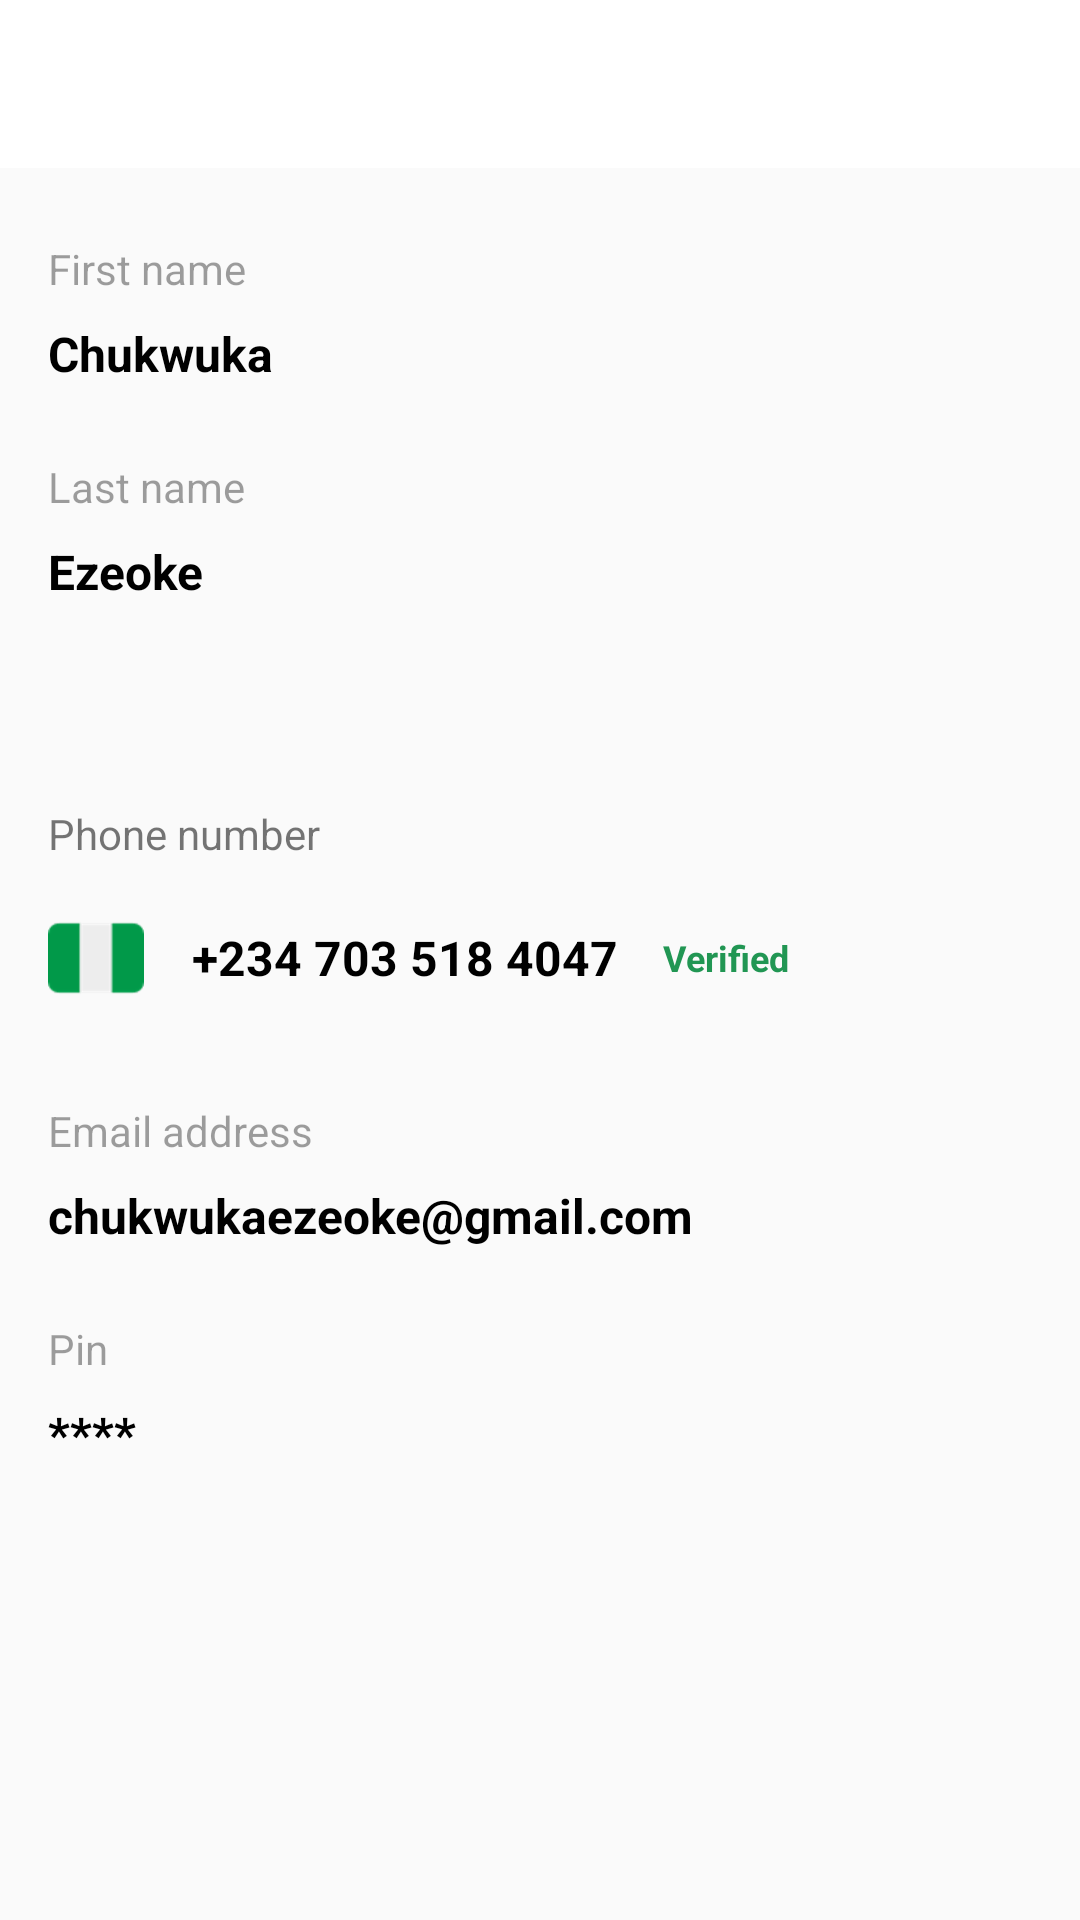

Named icons in this screenshot (1080x1920) and their centers, (x=x, y=y):
nigeria: (x=96, y=958)
